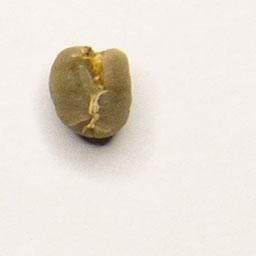peaberry: (42, 39, 139, 146)
